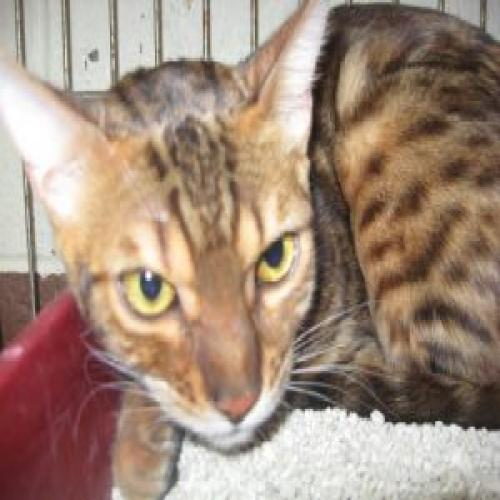bengal: (1, 1, 353, 483)
